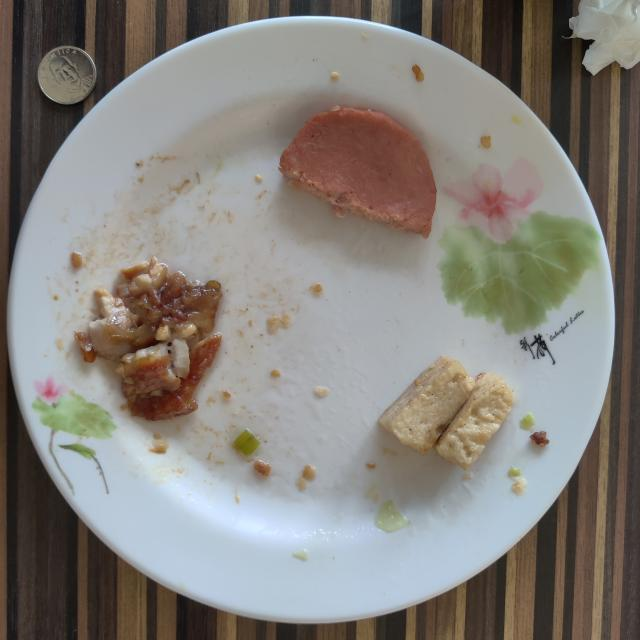Kabayaki sea bream fillet: (75, 256, 222, 420)
Spam: (280, 106, 436, 238)
coin: (38, 46, 96, 105)
creamy tofu -without sauce-: (379, 356, 514, 470)
